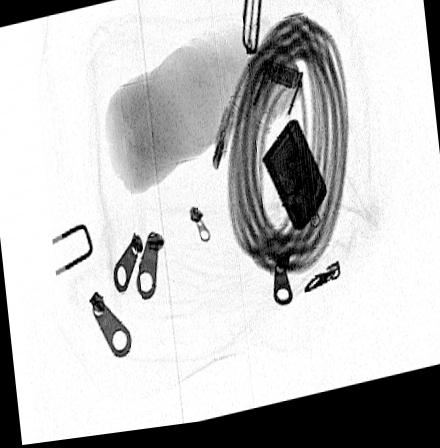Lighter: (262, 126, 327, 237)
